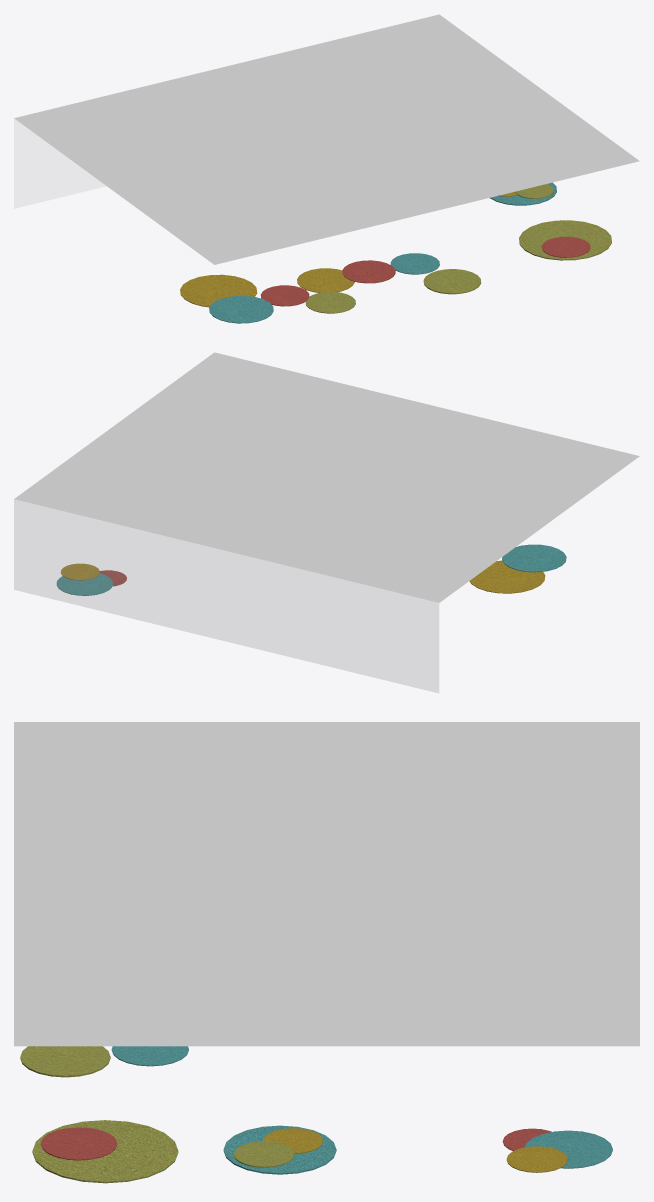
The model's file is Tapis.FBX.
The picture shows the model from 3 angles, top to bottom: view 1: azimuth 30°, elevation 25°; view 2: azimuth 150°, elevation 25°; view 3: azimuth 270°, elevation 25°; orthographic projection. The views are drawn at different scales.
Visible parts, largest first — view 1: Plafond, TapisMainGroup, vitre, TapisDoorGroup, TapisTheatreGroup; view 2: Plafond, vitre, TapisMainGroup, TapisLibraryGroup; view 3: Plafond, TapisDoorGroup, TapisTheatreGroup, TapisLibraryGroup, TapisMainGroup.
Boxes of the visible parts, <box> form: Plafond: <box>14,14,639,264</box>; TapisMainGroup: <box>180,253,481,323</box>; vitre: <box>14,119,105,208</box>; TapisDoorGroup: <box>519,220,611,260</box>; TapisTheatreGroup: <box>490,182,556,205</box>; Plafond: <box>14,352,639,602</box>; vitre: <box>14,499,438,692</box>; TapisMainGroup: <box>469,544,566,593</box>; TapisLibraryGroup: <box>56,563,126,595</box>; Plafond: <box>14,722,639,1046</box>; TapisDoorGroup: <box>32,1120,178,1183</box>; TapisTheatreGroup: <box>223,1125,336,1174</box>; TapisLibraryGroup: <box>502,1128,612,1172</box>; TapisMainGroup: <box>20,1046,188,1077</box>.
Bounding box in the file's own units: 620 × 127 × 506.
